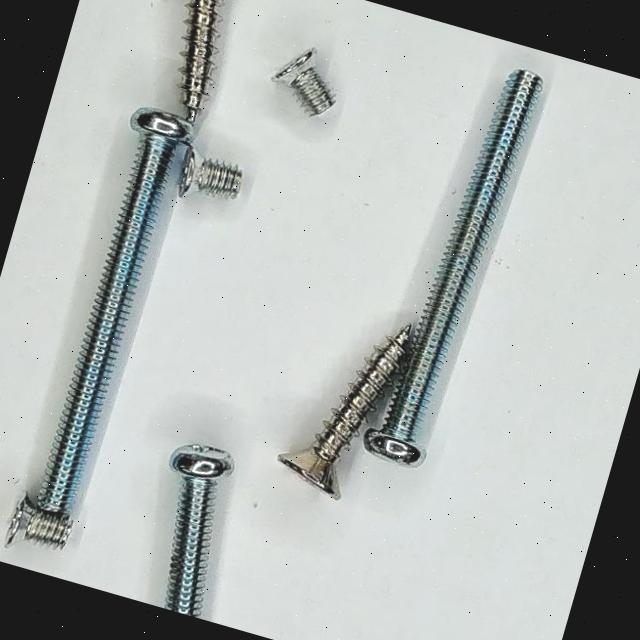Screw: (365, 68, 544, 467), (37, 109, 191, 514), (278, 325, 411, 500), (164, 444, 233, 619), (180, 0, 217, 122), (271, 48, 335, 115), (4, 497, 72, 549), (179, 148, 243, 198)
